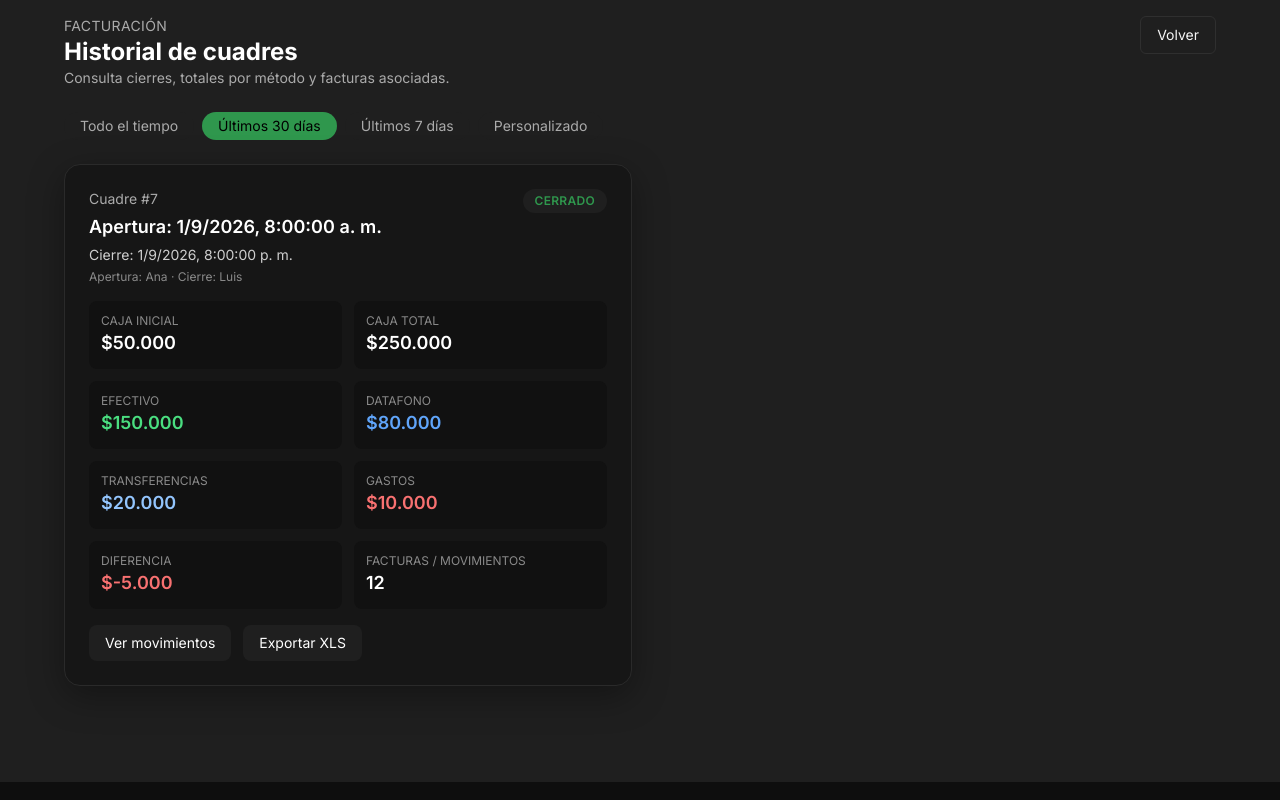
Test: CashDeskHistory › muestra historial con totales y filtros de rango
expect the text "Cuadre #7" is shown: met, box top-left (89, 190), bottom-right (158, 207)
expect the text "Apertura: Ana · Cierre: Luis" is shown: met, box top-left (89, 269), bottom-right (242, 284)
cambiar de rango dispara nueva consulta
Click the button "Todo el tiempo" at (129, 126), box top-left (64, 112), bottom-right (194, 140)
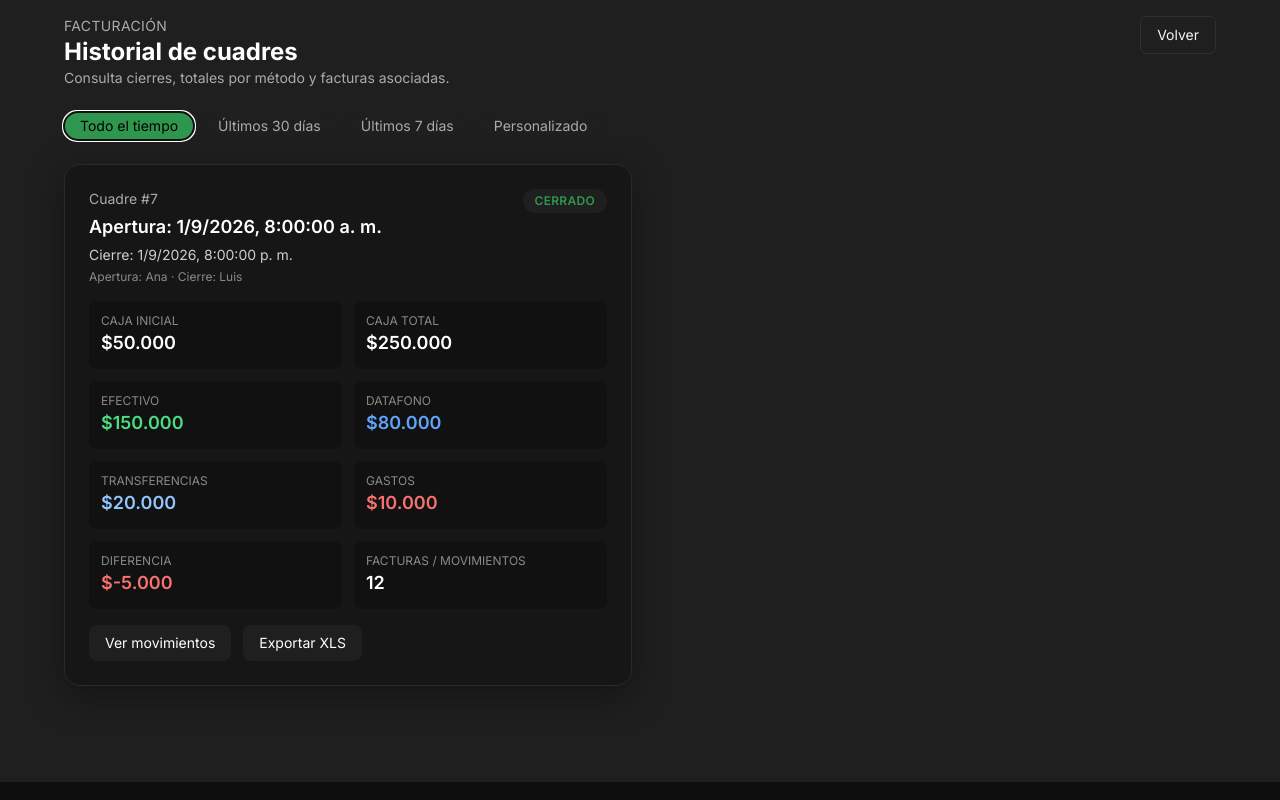
Click the button "Personalizado" at (541, 126), box top-left (478, 112), bottom-right (603, 140)
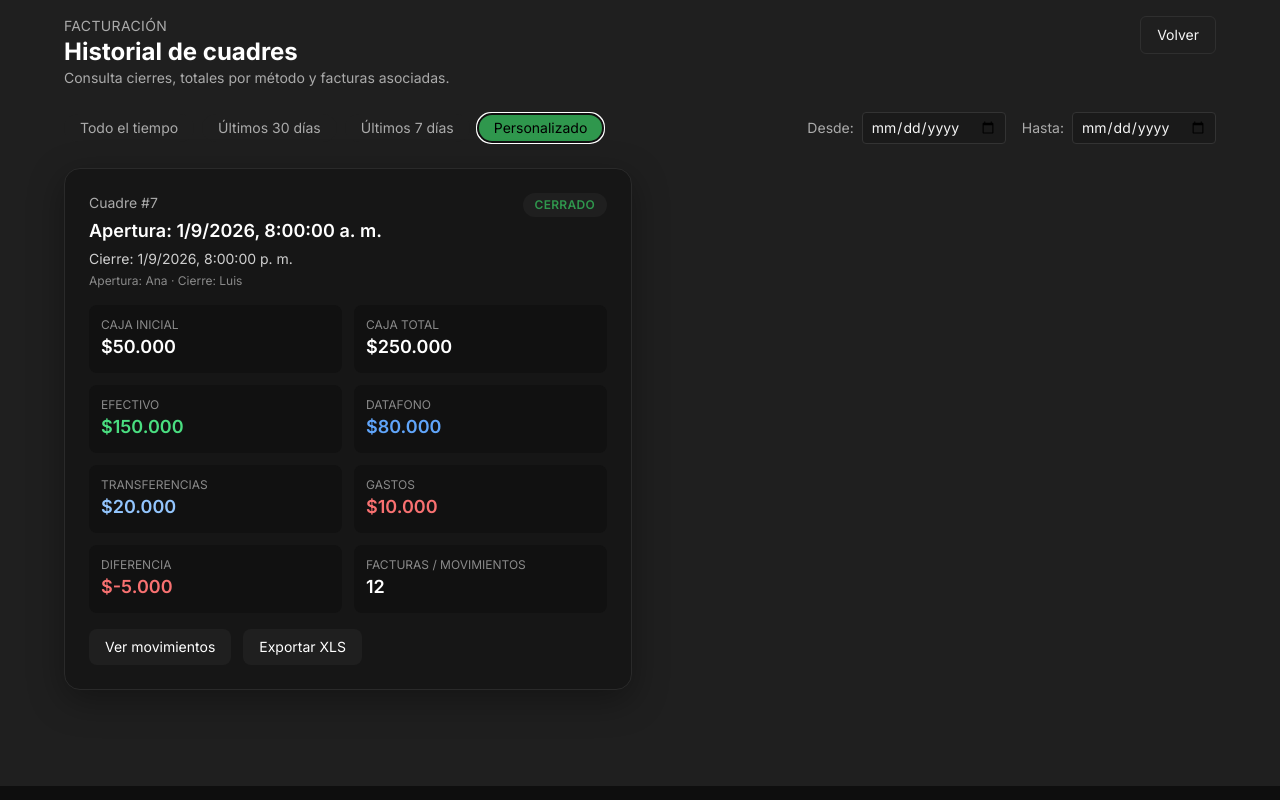
expect the date field labelled "Desde:" is shown: met, box top-left (862, 112), bottom-right (1006, 144)
